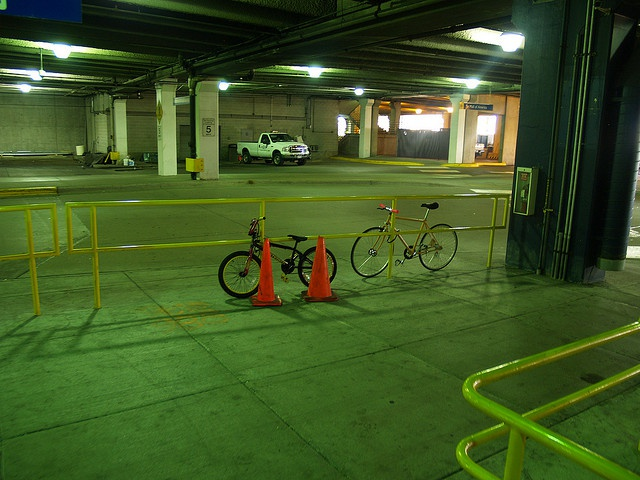non-vehicle: (348, 197, 462, 280), (217, 218, 337, 296)
